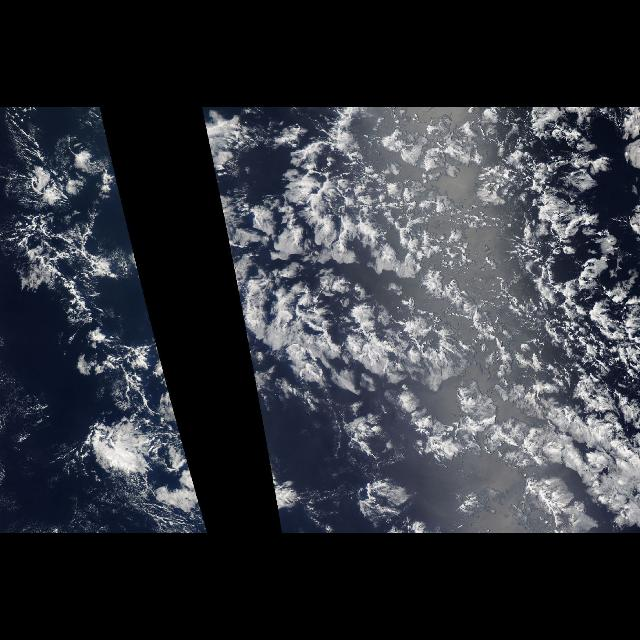Flower: (253, 285, 585, 457)
Gravel: (276, 125, 638, 272), (2, 124, 134, 344), (68, 356, 200, 500)
